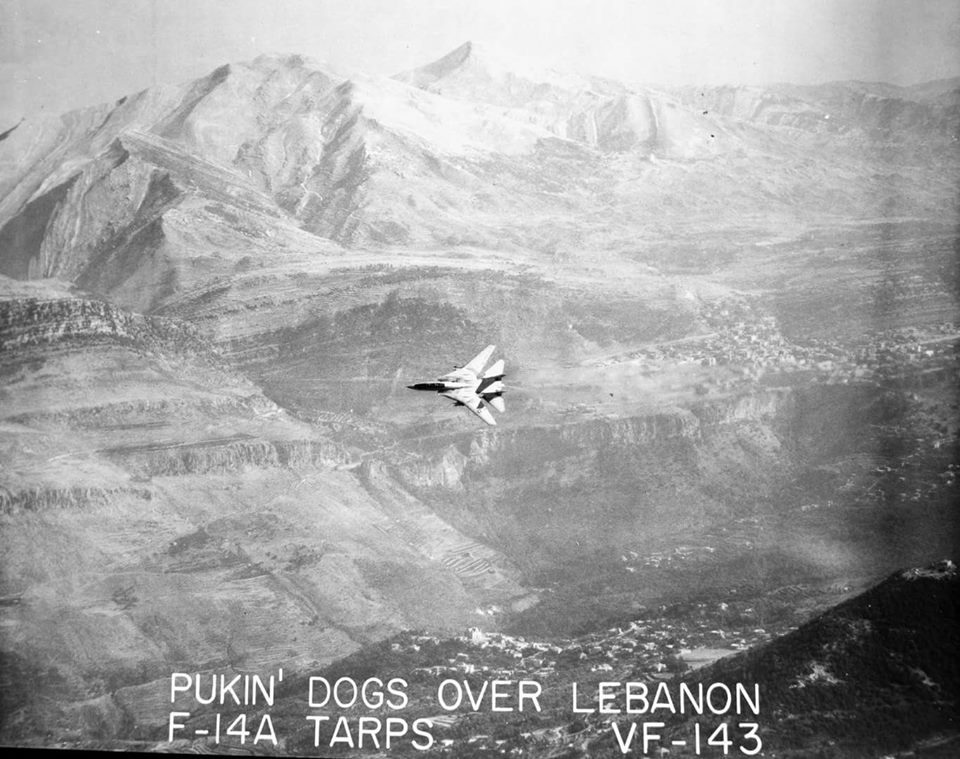F14: (405, 344, 508, 426)
